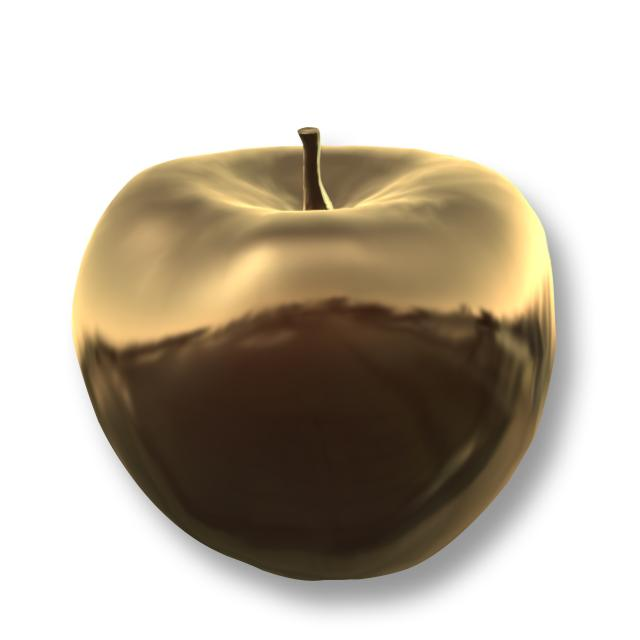apple: (69, 143, 557, 582)
